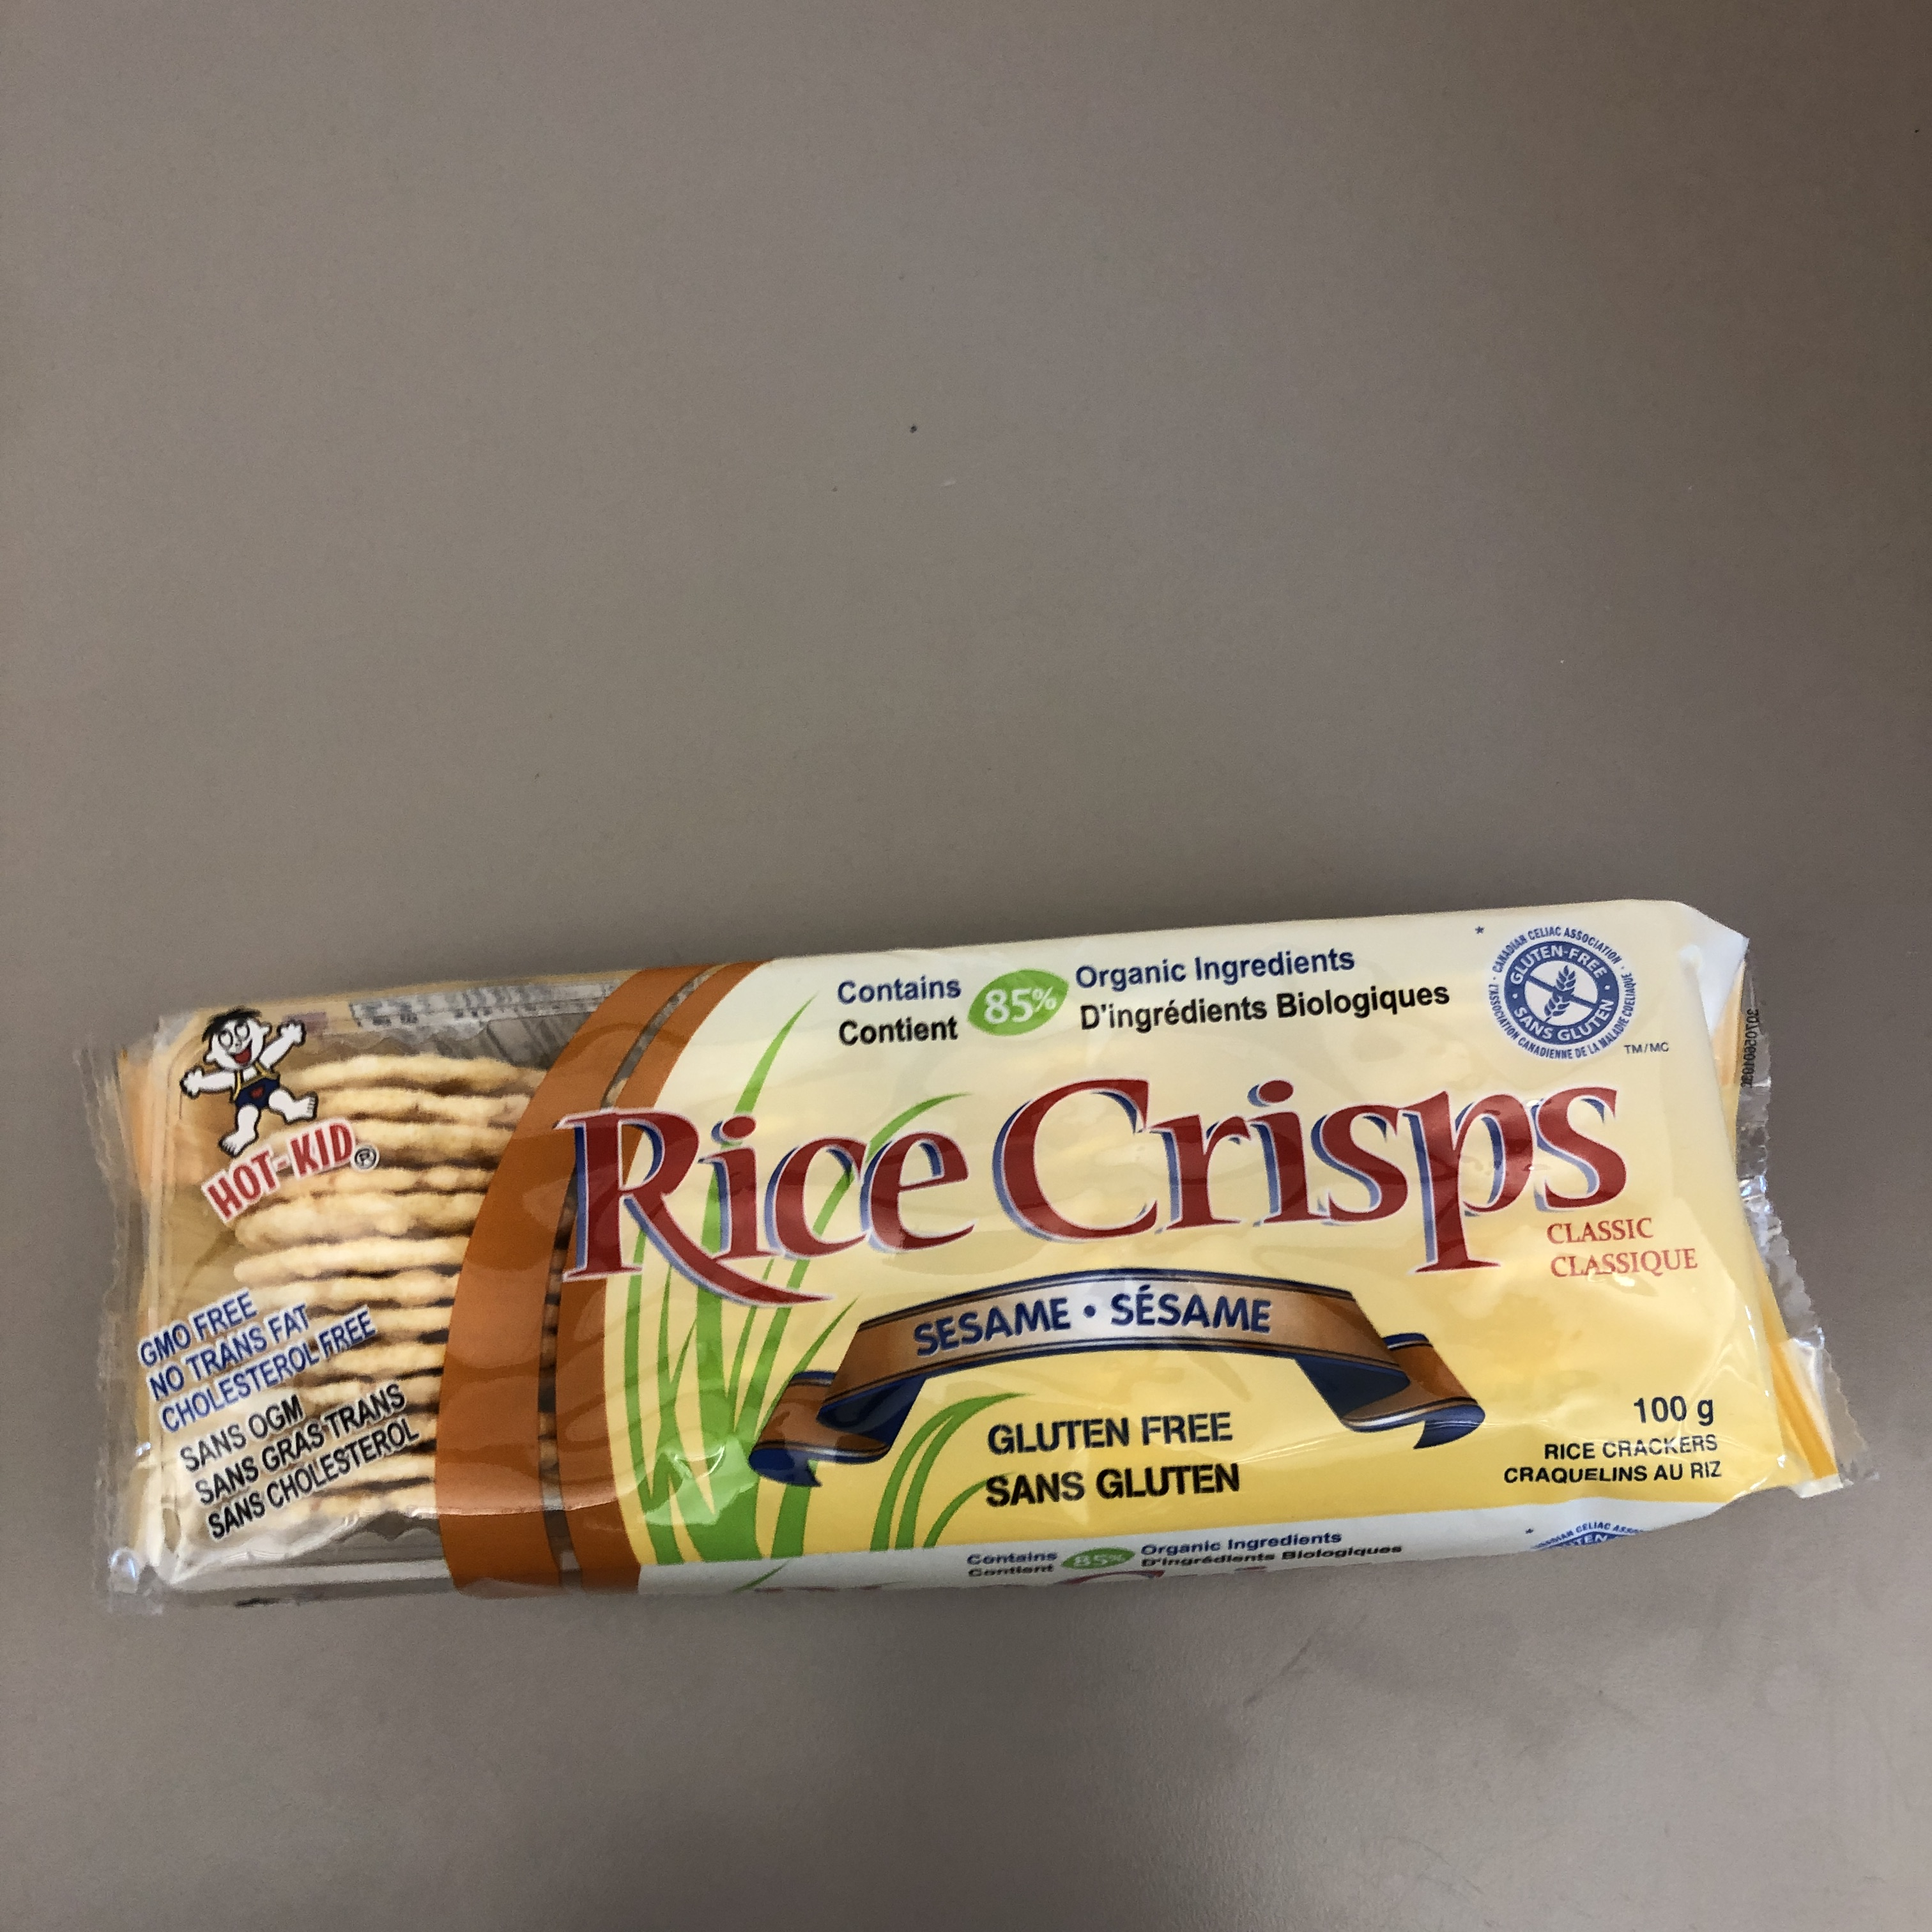hot_kid_rice_crisps_sesame: (930, 155, 1549, 1766)
